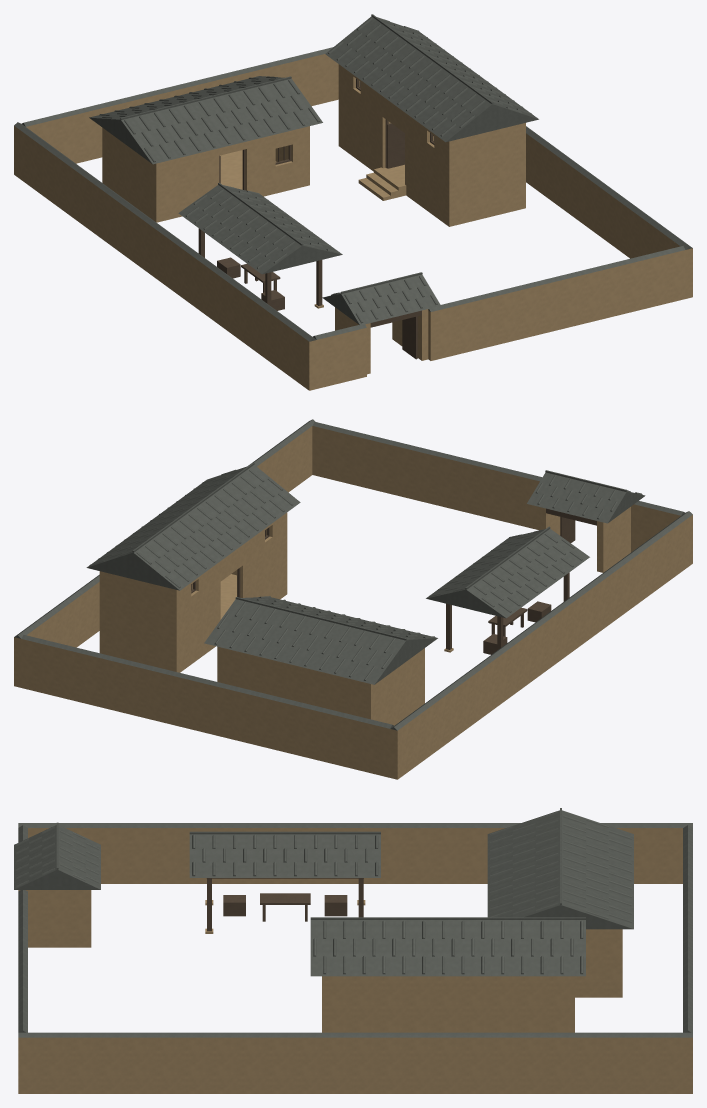
The model's file is court-B-LOD1.glb.
3 views of the same model, one above another, from view 1: azimuth 30°, elevation 25°; view 2: azimuth 150°, elevation 25°; view 3: azimuth 270°, elevation 25° (orthographic). The views are drawn at different scales.
Visible parts, largest first — view 1: court-B-static_earth, court-B-static_tile, court-B-static_timber; view 2: court-B-static_earth, court-B-static_tile, court-B-static_timber; view 3: court-B-static_earth, court-B-static_tile, court-B-static_timber.
Boxes of the visible parts, left/top/right/bottom form: court-B-static_earth: left=14, top=54, right=692, bottom=390; court-B-static_tile: left=14, top=14, right=692, bottom=341; court-B-static_timber: left=198, top=78, right=434, bottom=359; court-B-static_earth: left=14, top=426, right=692, bottom=779; court-B-static_tile: left=14, top=419, right=692, bottom=730; court-B-static_timber: left=191, top=508, right=596, bottom=654; court-B-static_earth: left=18, top=828, right=692, bottom=1093; court-B-static_tile: left=14, top=808, right=692, bottom=1037; court-B-static_timber: left=206, top=878, right=363, bottom=931.
Size of the model in its own units: 18 by 5.32 by 24.15.
Materials: 3 (3 with a texture image).
